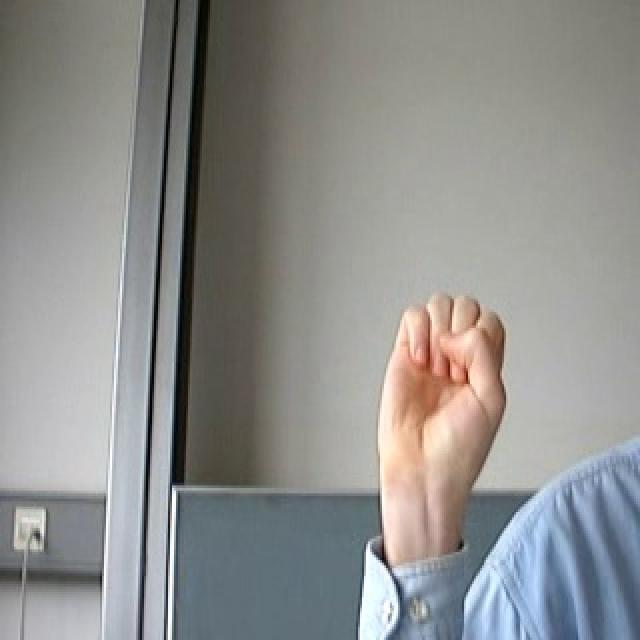E: (345, 267, 538, 509)
